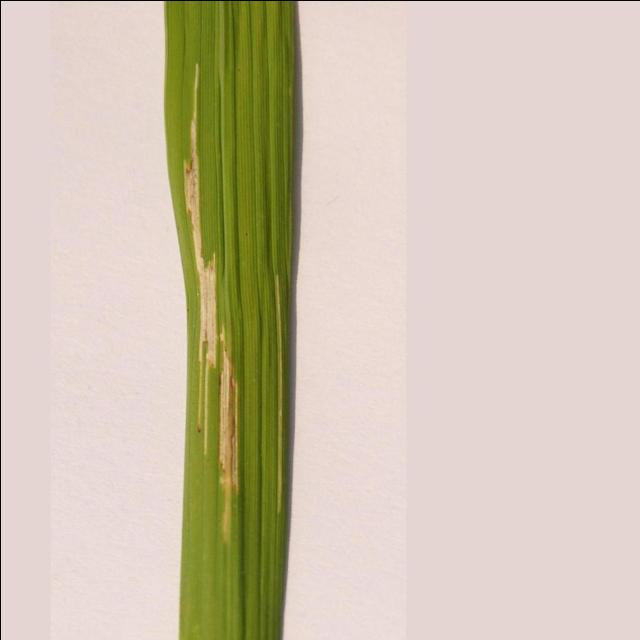Bacterial leaf blight: (182, 56, 248, 546), (274, 230, 282, 514)
